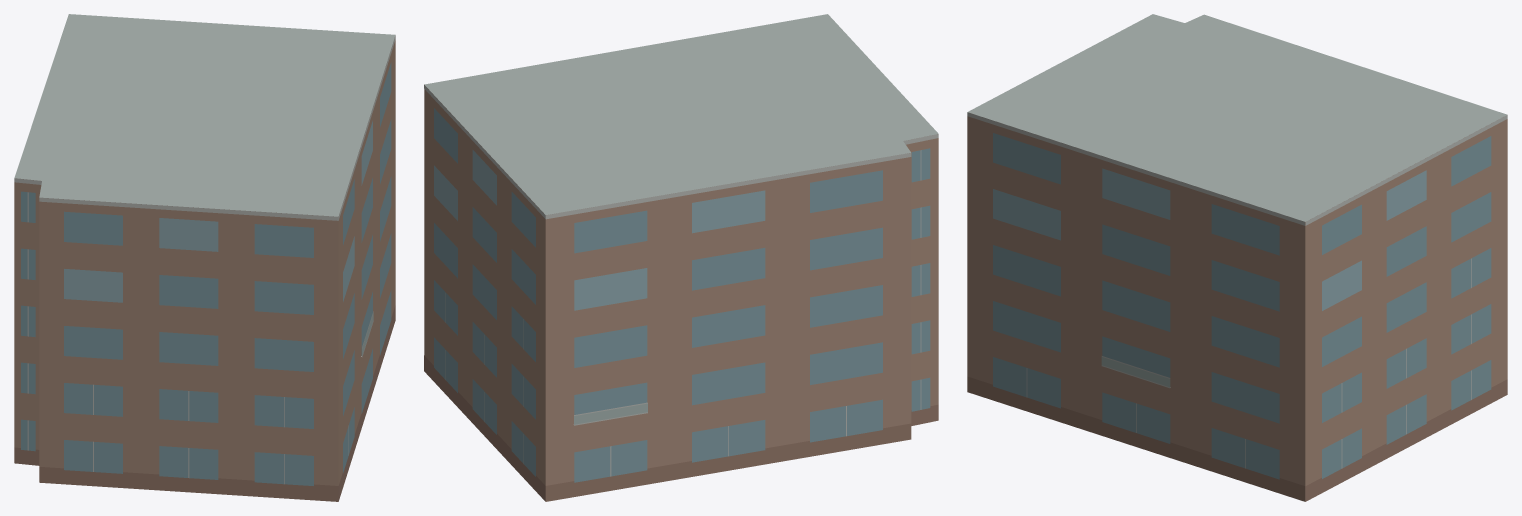
File: survey-upis-32473736.glb
3 renders of one model, left to right at view 1: azimuth 30°, elevation 25°; view 2: azimuth 150°, elevation 25°; view 3: azimuth 270°, elevation 25°, orthographic. The views are drawn at different scales.
Parts seen in each view (by area): view 1: survey-upis-32473736.tmp; view 2: survey-upis-32473736.tmp; view 3: survey-upis-32473736.tmp.
Boxes of the visible parts, x1,y1,x2,y2 form: survey-upis-32473736.tmp: (14, 14, 395, 501); survey-upis-32473736.tmp: (424, 14, 938, 501); survey-upis-32473736.tmp: (967, 14, 1507, 501).
Size of the model in its own units: 26.85 by 16.85 by 29.48.
